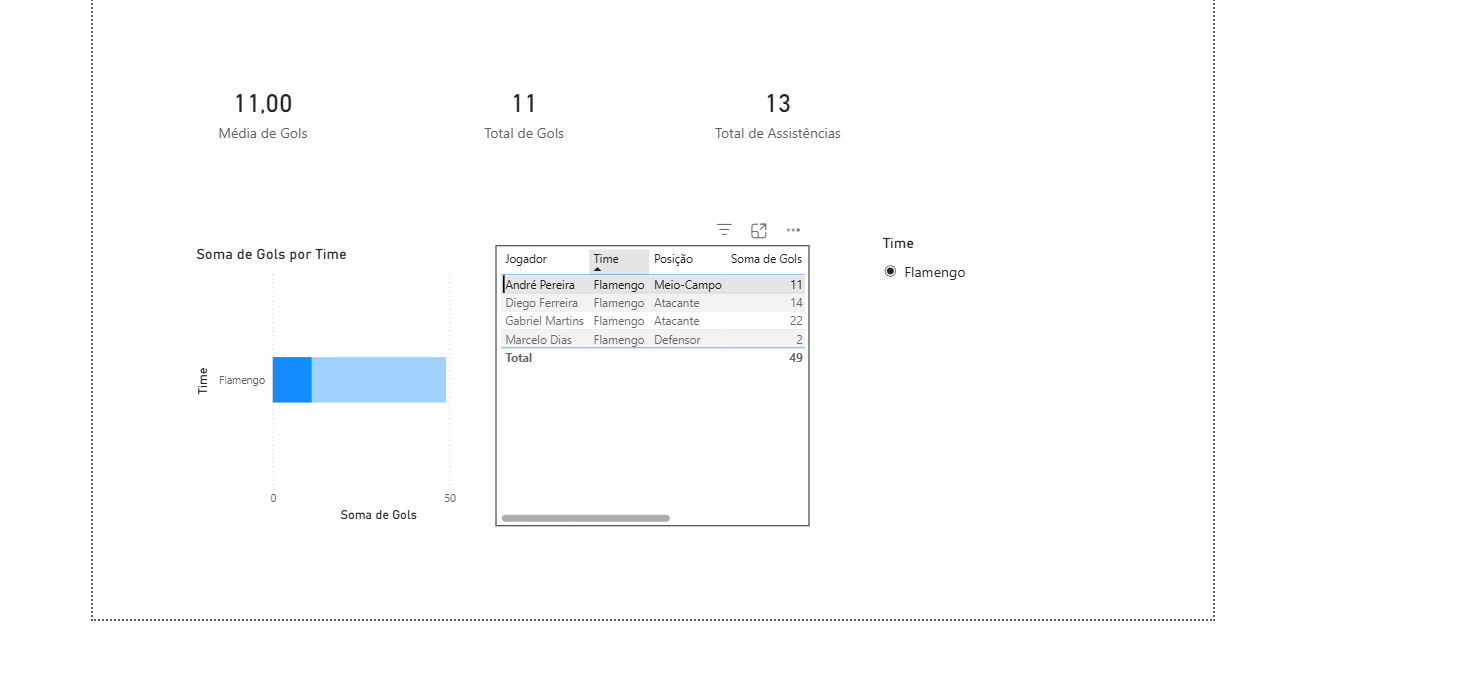

Layout of this report page (visuals, bound fields, positions):
{"tool":"powerbi","page":{"name":"Página 1","canvas":[1280,720],"ordinal":0},"visuals":[{"type":"card","fields":{"Values":["Dados Brutos.Média de Gols"]},"box":[54.3,0,280,280],"z":0},{"type":"card","fields":{"Values":["Dados Brutos.Total de Gols"]},"box":[352.9,0,280,280],"z":1000},{"type":"card","fields":{"Values":["Dados Brutos.Total de Assistências"]},"box":[642.9,0,280,280],"z":2000},{"type":"clusteredBarChart","fields":{"Category":["Dados Brutos.Time"],"Y":["Sum(Dados Brutos.Gols)"]},"box":[112.9,292.9,347.1,321.4],"z":3000},{"type":"tableEx","fields":{"Values":["Dados Brutos.Jogador","Dados Brutos.Time","Dados Brutos.Posição","Sum(Dados Brutos.Gols)","Sum(Dados Brutos.Assistências)","Dados Brutos.Participações em Gols"]},"box":[460,292.9,358.6,321.4],"z":4000},{"type":"listSlicer","fields":{"Values":["Dados Brutos.Time"]},"box":[897.1,280,382.9,321.4],"z":5000}]}

Visuals, with their boxes on the page's 1280x720 design canvas (x1, y1, x2, y2). These are canvas units, not pixel positions in the 1483x685 screenshot, which may show the page scaled, cropped or inside an application window:
card - Dados Brutos.Média de Gols: (x1=54, y1=0, x2=334, y2=280)
card - Dados Brutos.Total de Gols: (x1=353, y1=0, x2=633, y2=280)
card - Dados Brutos.Total de Assistências: (x1=643, y1=0, x2=923, y2=280)
clusteredBarChart - Dados Brutos.Time x Sum(Dados Brutos.Gols): (x1=113, y1=293, x2=460, y2=614)
tableEx - Dados Brutos.Jogador x Dados Brutos.Time: (x1=460, y1=293, x2=819, y2=614)
listSlicer - Dados Brutos.Time: (x1=897, y1=280, x2=1280, y2=601)
